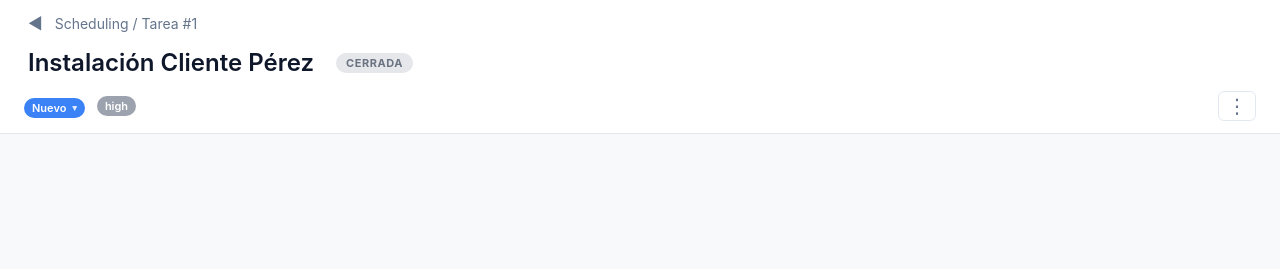
Test: TaskHeader › closed task shows "Reabrir tarea" and "Descartar tarea"
The width and height of the screenshot is (1280, 269).
Click the button with test id "kebab-menu": (1237, 106) [1218,91,1256,121]
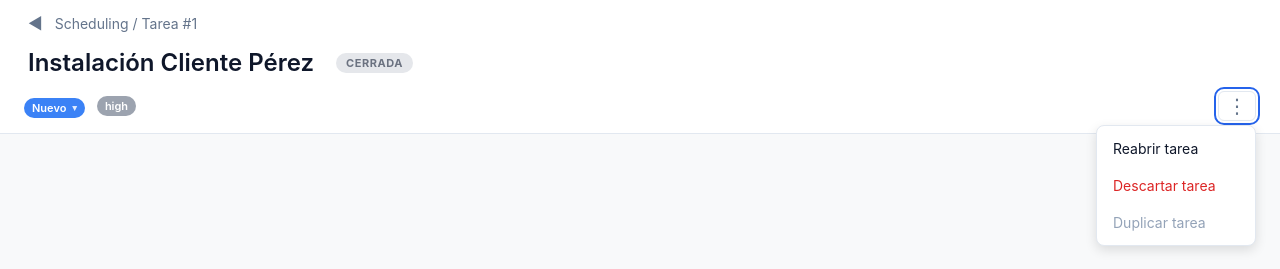
Expected: the menu item with test id "kebab-reopen" reads "Reabrir tarea", [1101,130,1251,167]
Expected: the menu item with test id "kebab-dismiss" reads "Descartar tarea", [1101,167,1251,204]
